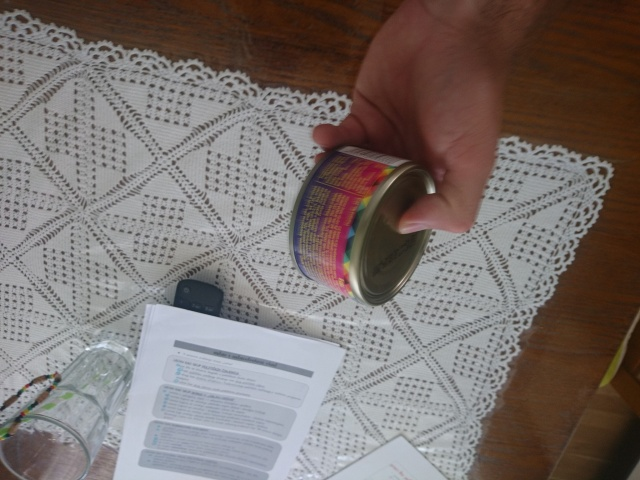Giana Tuna Salad Mexico 185g: (285, 139, 439, 309)
